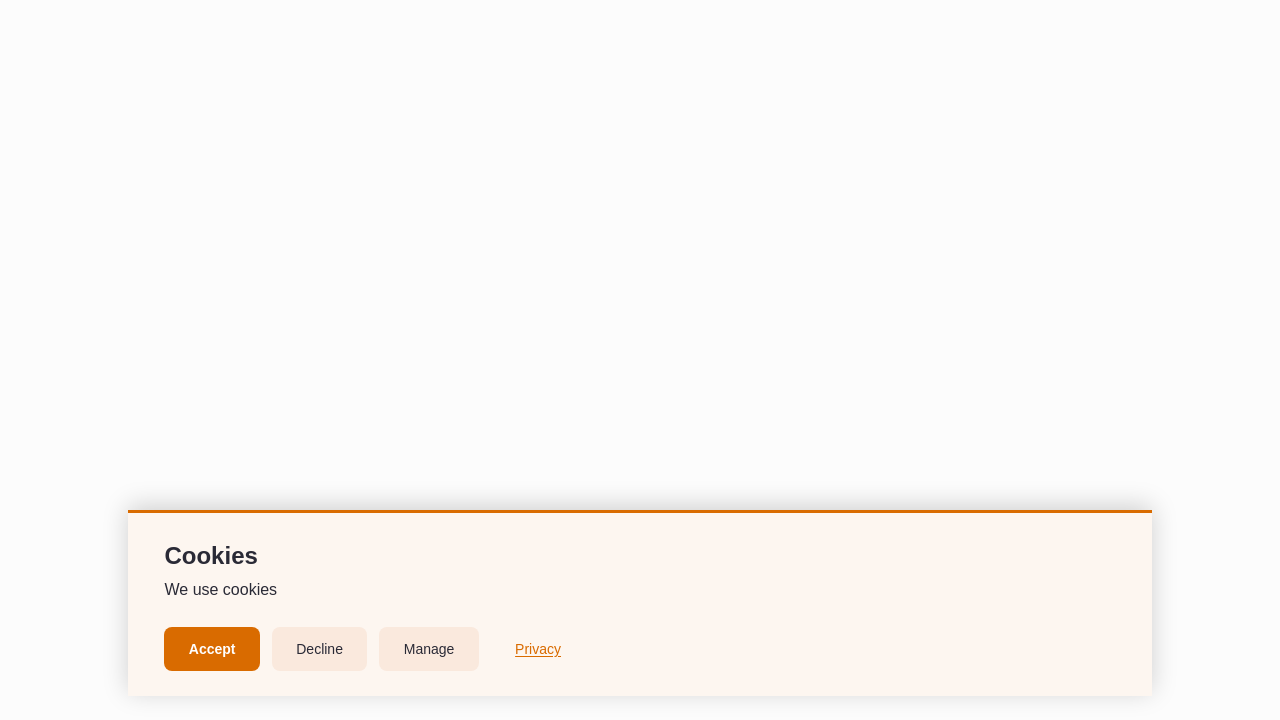
CookieBanner (Providers) › manage modal › closes the modal when Cancel is clicked
Click the button "Manage". click: {"x": 429, "y": 649}
box: [379,627,479,671]
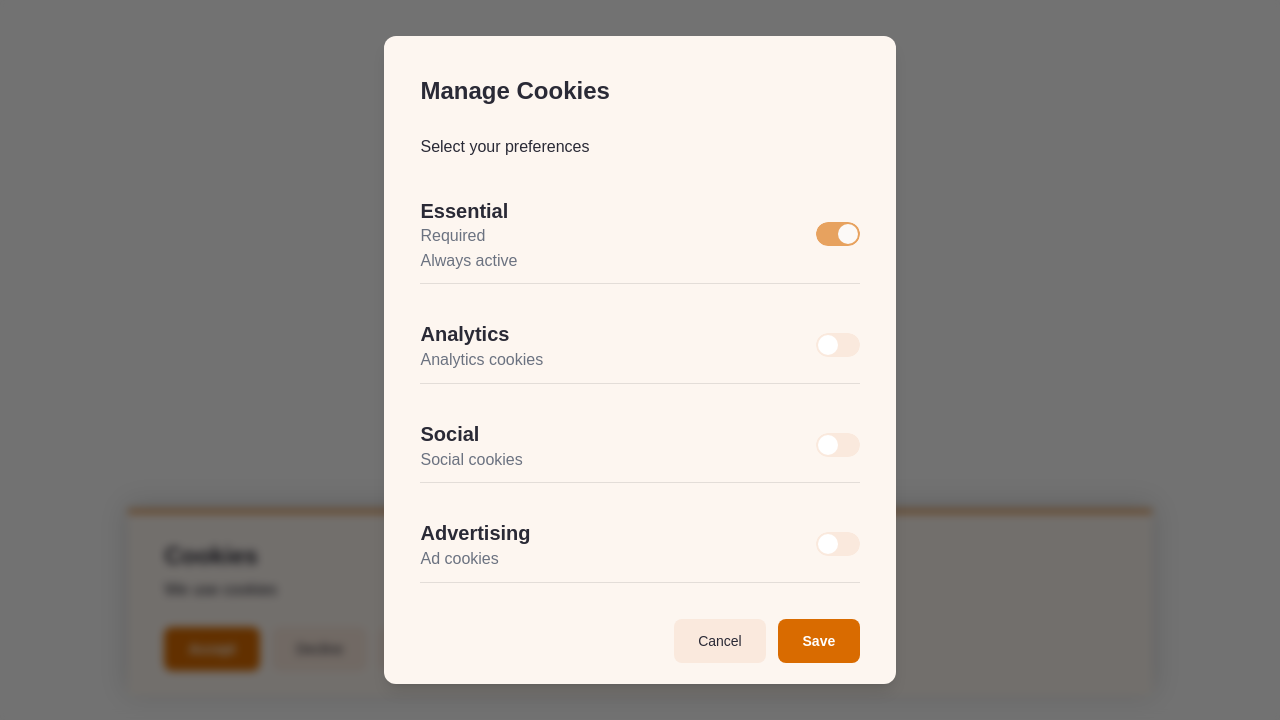
Result: the dialog is shown
Click the button "Cancel". click: {"x": 720, "y": 641}
box: [674,619,766,663]
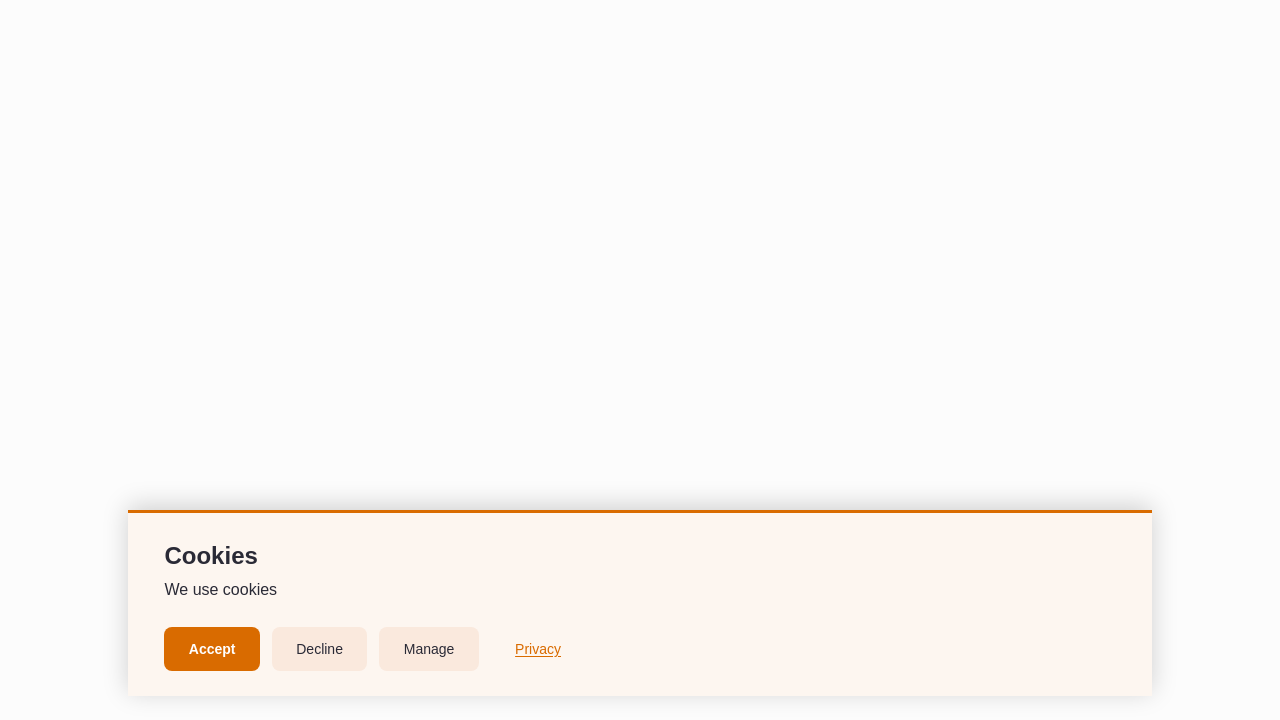
Result: the dialog is gone
